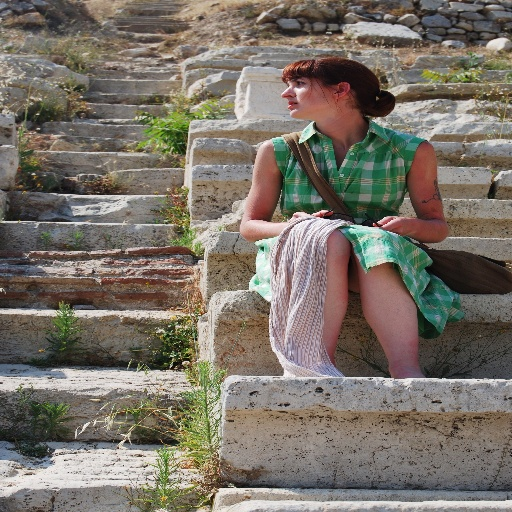hand: (367, 217, 418, 235), (286, 209, 335, 222)
